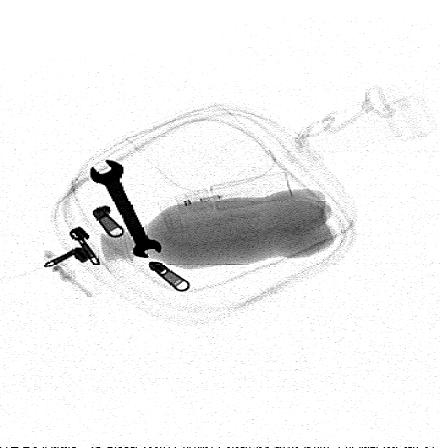Wrench: (87, 157, 164, 260)
